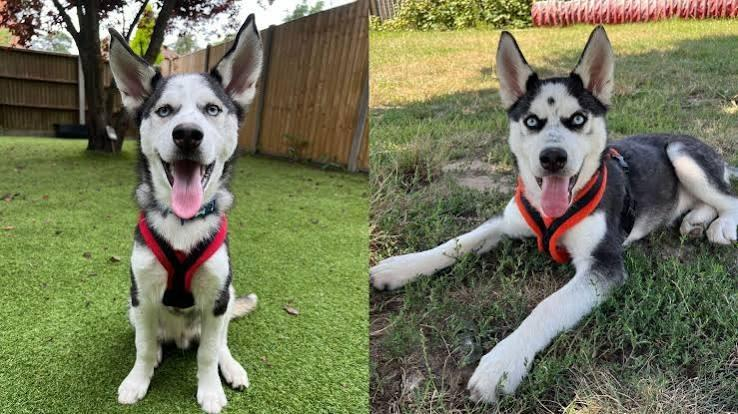adult_dog: (369, 26, 738, 404), (110, 9, 267, 414)
